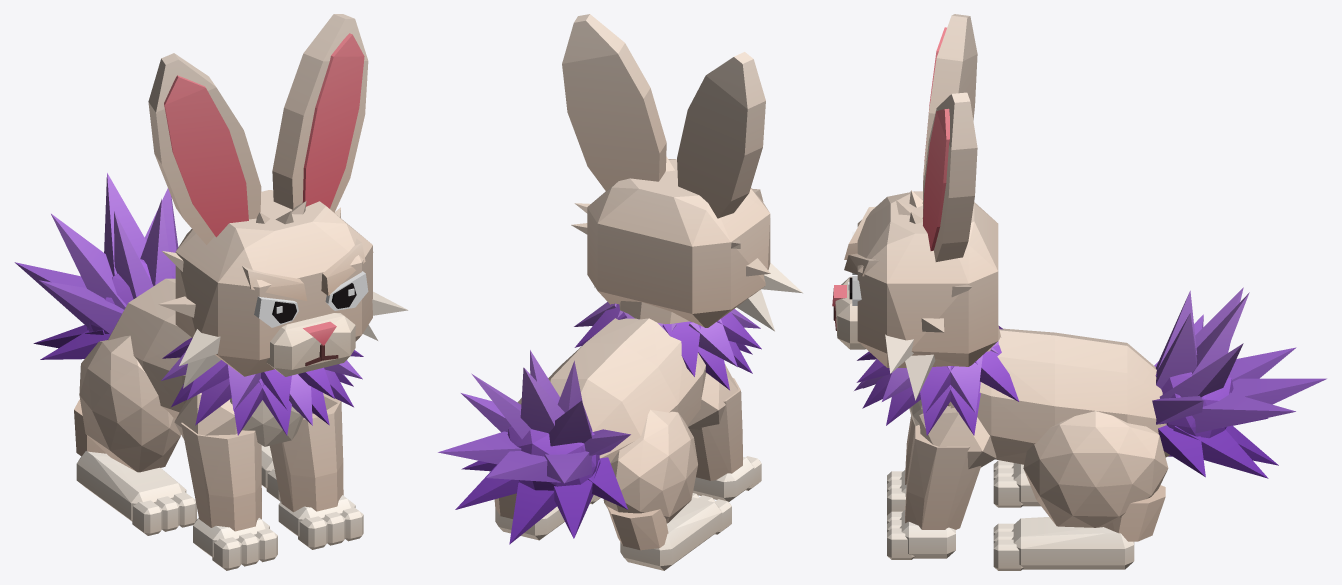
The model's file is JabBunny.glb.
3 renders of one model, left to right at view 1: azimuth 30°, elevation 25°; view 2: azimuth 150°, elevation 25°; view 3: azimuth 270°, elevation 25°, orthographic. The views are drawn at different scales.
Visible parts, largest first — view 1: jab_bunny; view 2: jab_bunny; view 3: jab_bunny.
Part boxes in pixels (x1,y1,x2,y2): jab_bunny: (14,14,408,570); jab_bunny: (438,14,802,570); jab_bunny: (832,14,1326,570).
Bounding box in the file's own units: 0.5637 × 1.15 × 1.09.
Materials: 1 (1 with a texture image).
